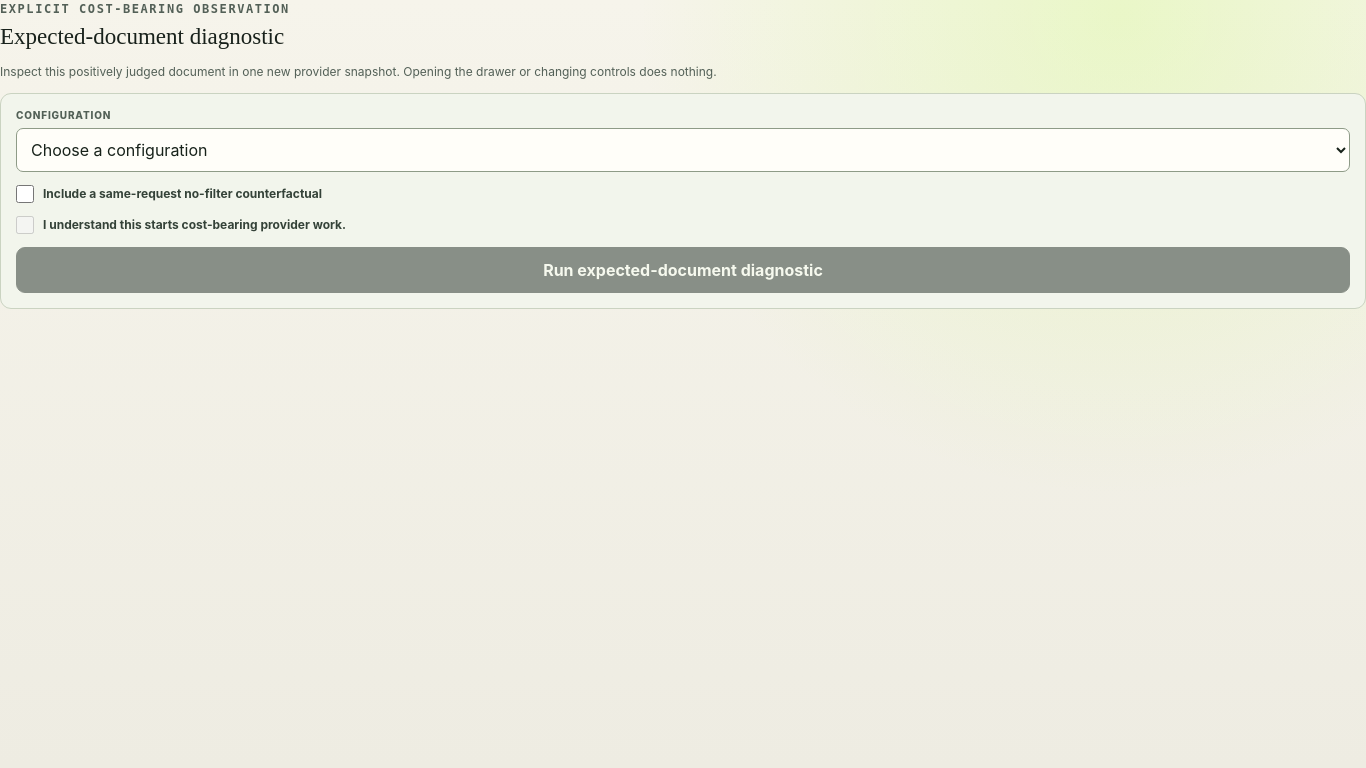
Test case: ExpectedDocumentDiagnostic › runs 40000000-0000-4000-8000-000000000004 only after fresh confirmation and renders typed evidence
Select "BM25" in the dropdown labelled "Configuration" at (683, 150), box [16,128,1350,172]
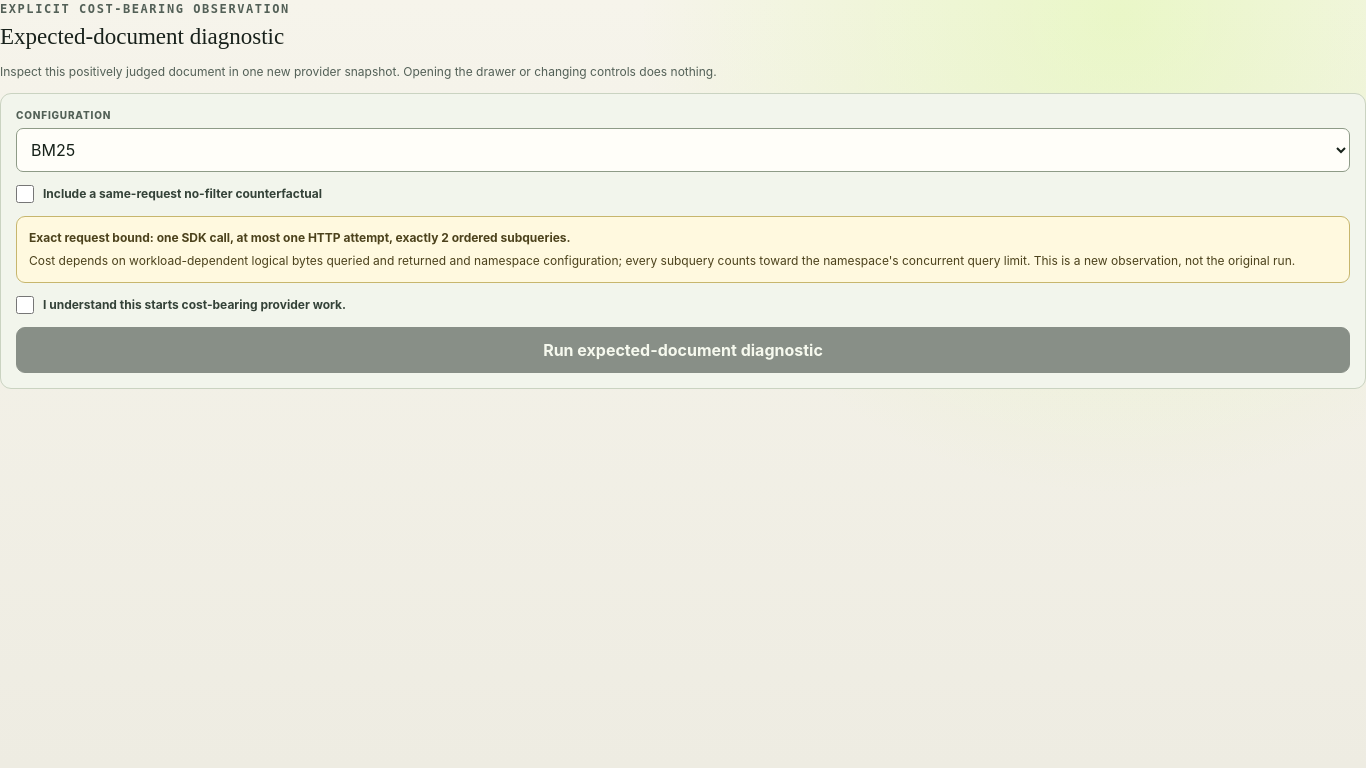
Click the checkbox labelled "I understand this starts cost-bearing provider work." at (25, 305), box [16,296,34,314]
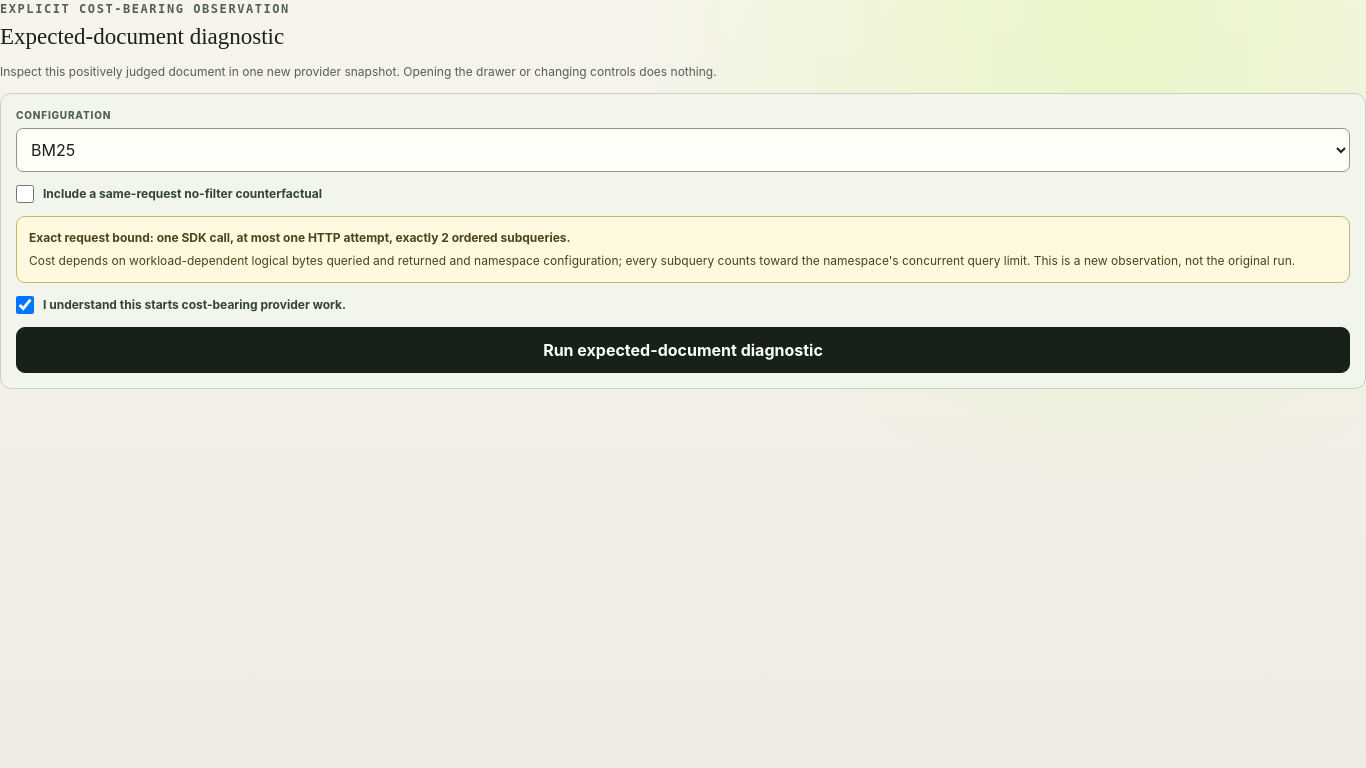
Click the button "Run expected-document diagnostic" at (683, 350), box [16,327,1350,373]
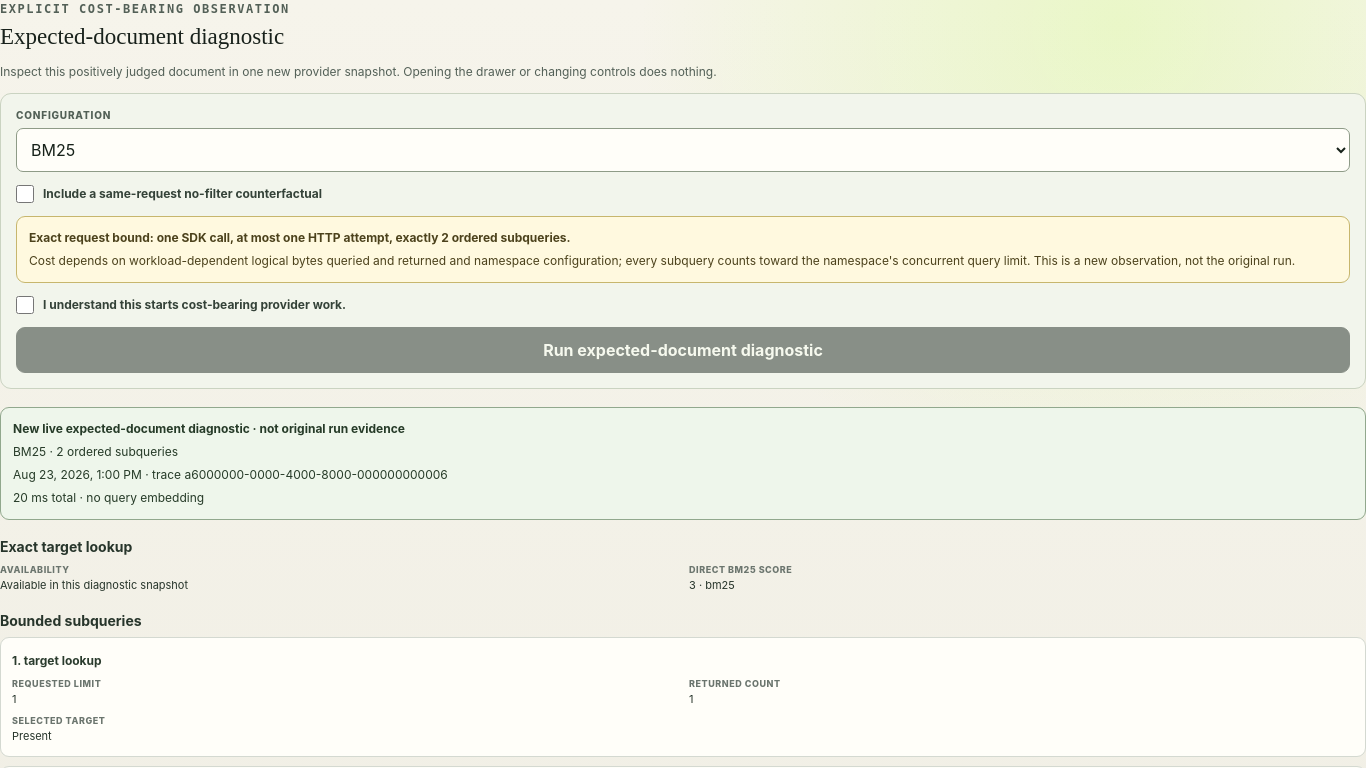
Now the text "New live expected-document diagnostic · not original run evidence" is shown, box [13,421,405,436]
Now the text "New live expected-document diagnostic · not original run evidence" shows "BM25", box [13,444,46,459]
Now the text "New live expected-document diagnostic · not original run evidence" shows "2 ordered subqueries", box [0,407,1365,520]
